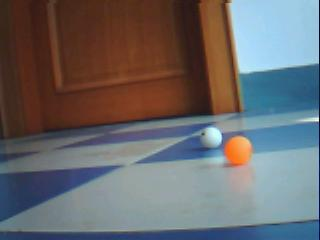oball: (224, 136, 252, 165)
